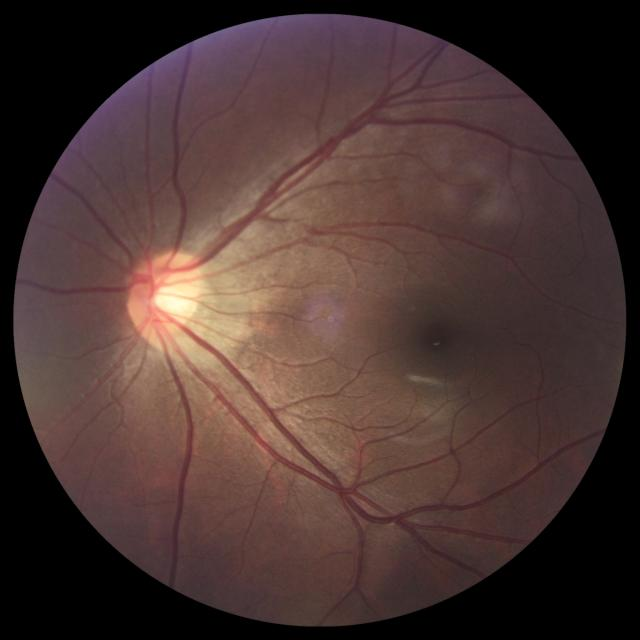OC: (149, 281, 186, 317)
OD: (128, 251, 206, 340)
